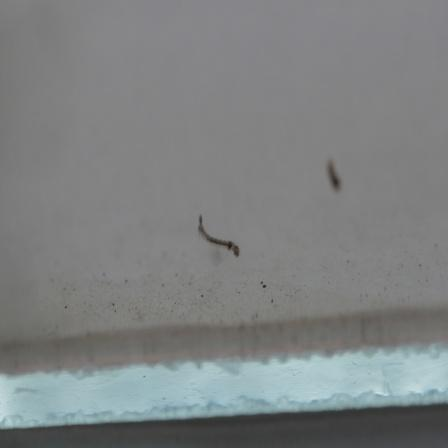Jentik-Nyamuk: (195, 208, 244, 262)
